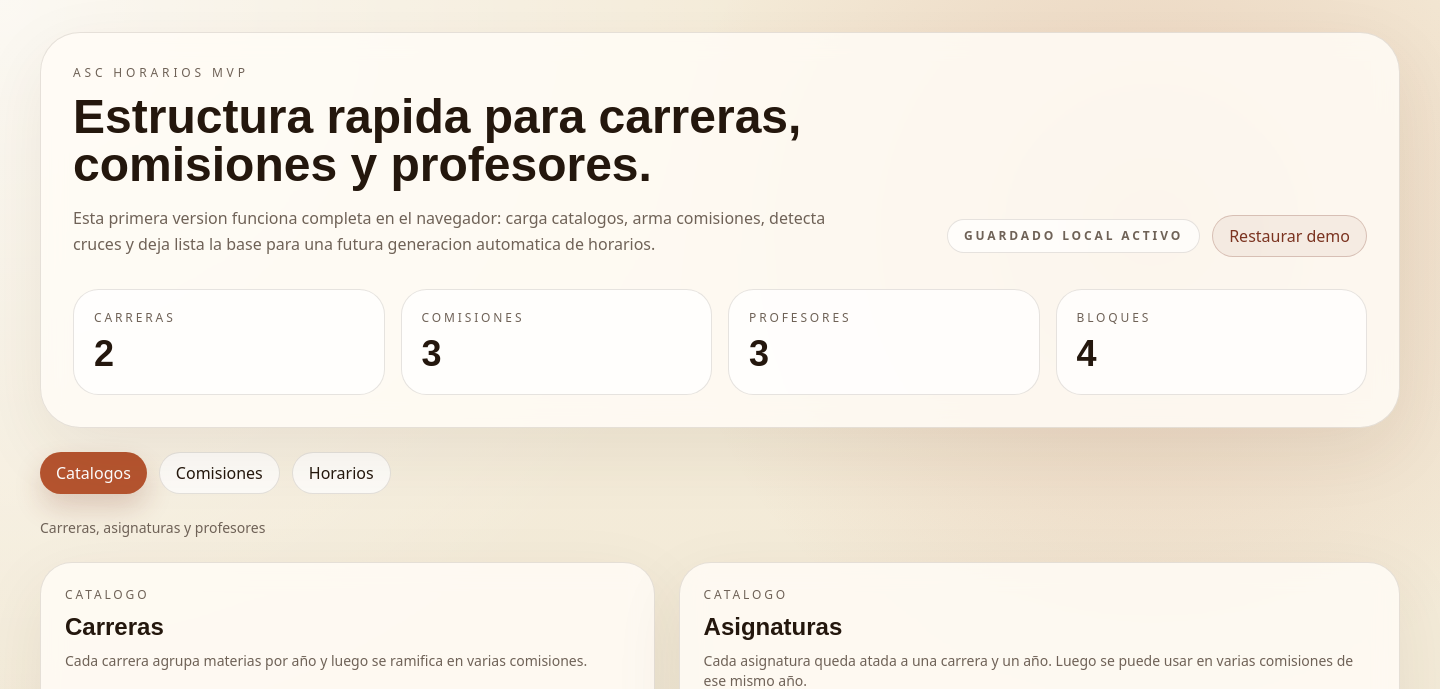
Test: AppShell › lets the user search and pick a visible teacher from the combobox
The image size is (1440, 689).
Step 1. Click the button "Horarios" → (341, 473), box x1=292 y1=452 x2=391 y2=494
(page scrolled)
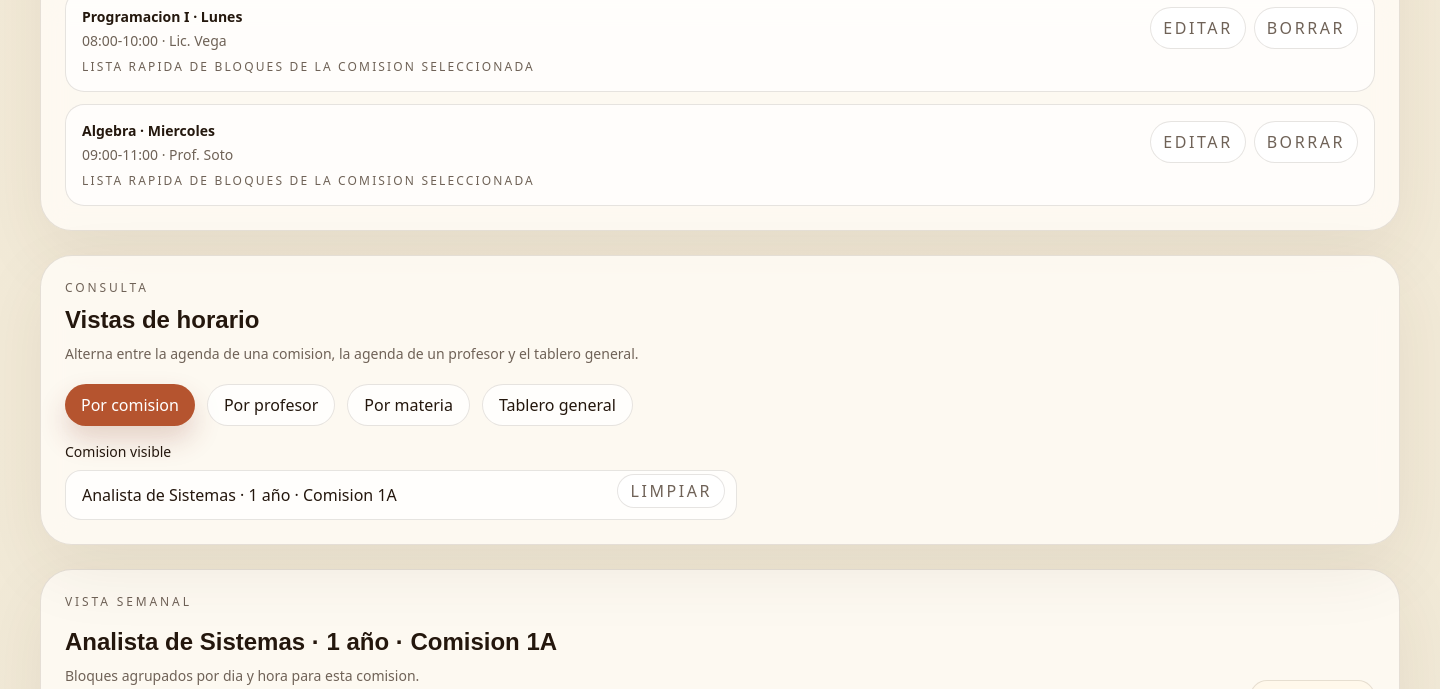
Step 2. Click the button "Por profesor" → (271, 405), box x1=207 y1=384 x2=335 y2=426
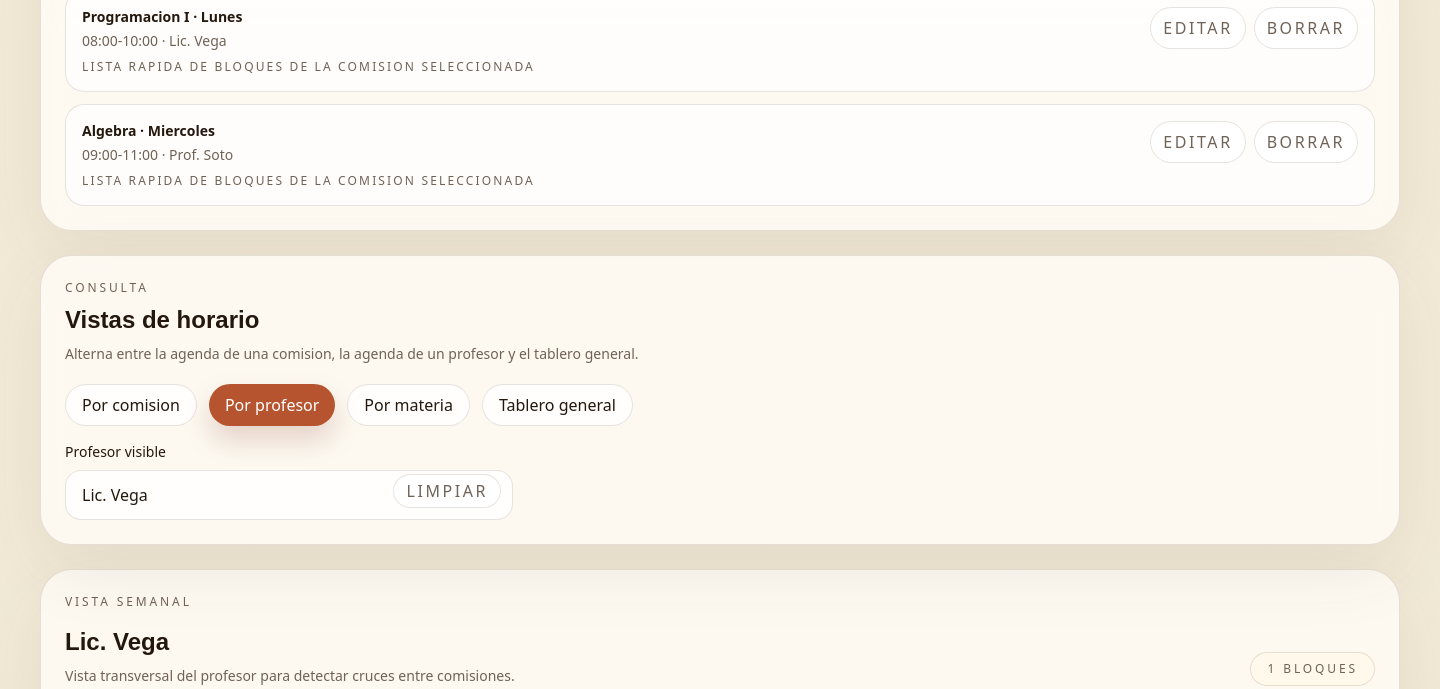
Step 3. Replace the text in the dropdown labelled "Profesor visible" with "soto" → (289, 495), box x1=65 y1=470 x2=513 y2=520
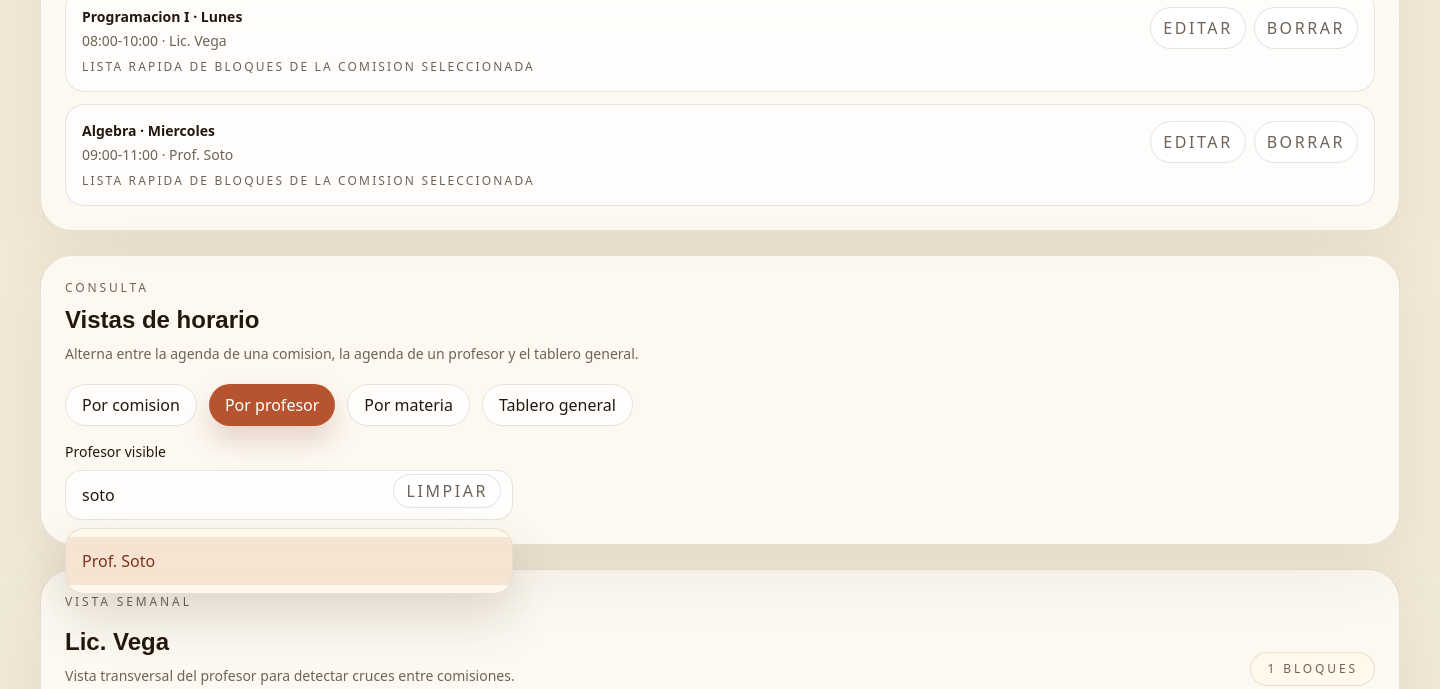
Check: the option "Prof. Soto" is shown, box x1=66 y1=537 x2=512 y2=585
Step 4. Press ArrowDown in the dropdown labelled "Profesor visible", box x1=65 y1=470 x2=513 y2=520
Step 5. Press Enter in the dropdown labelled "Profesor visible", box x1=65 y1=470 x2=513 y2=520
(page scrolled)
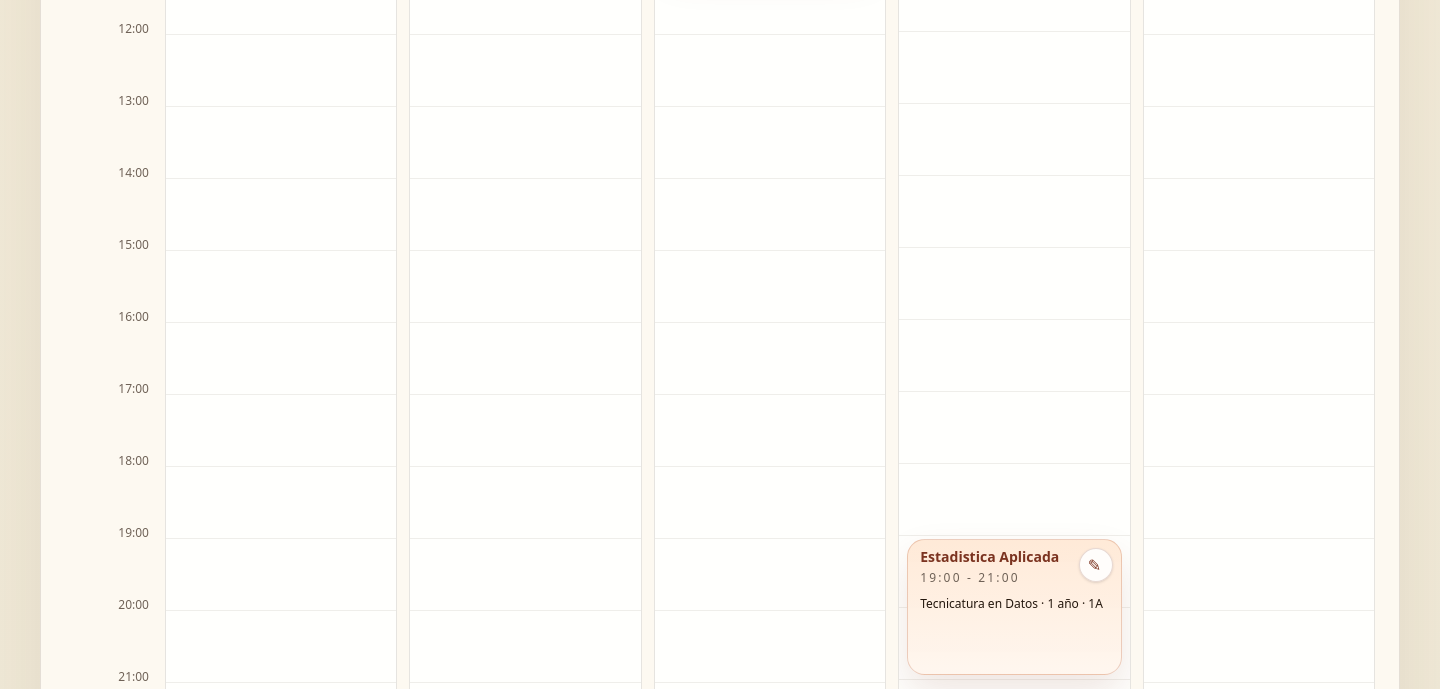
Check: the text "Estadistica Aplicada" is shown, box x1=920 y1=547 x2=1059 y2=566
